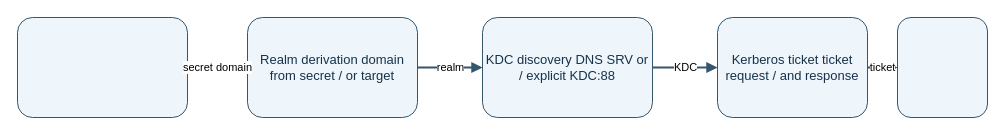
This 1005x135 diagram has some shape labels left out. Here are the shapes that lost their labels. From the top down, the centre of each, then its label:
(x=102, y=67): Secret / target domain + credentials / NLA enabled
(x=942, y=67): Native RDP NLA CredSSP to target / Web RDP excluded
